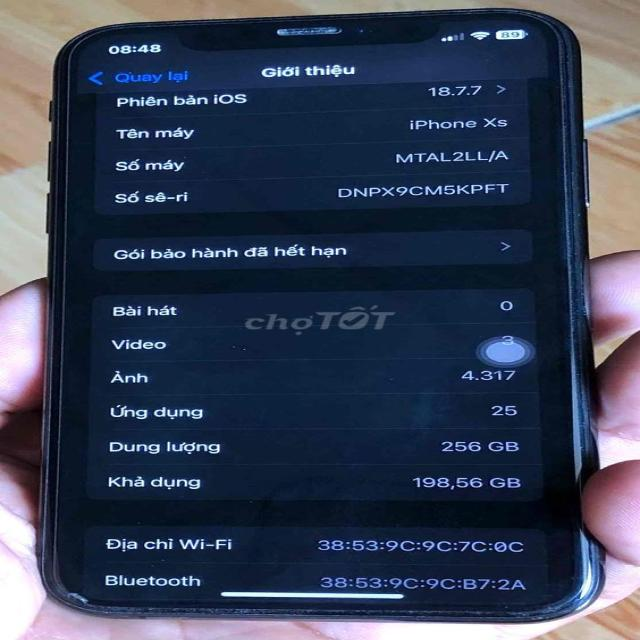gen_x_xs: (33, 9, 603, 623)
